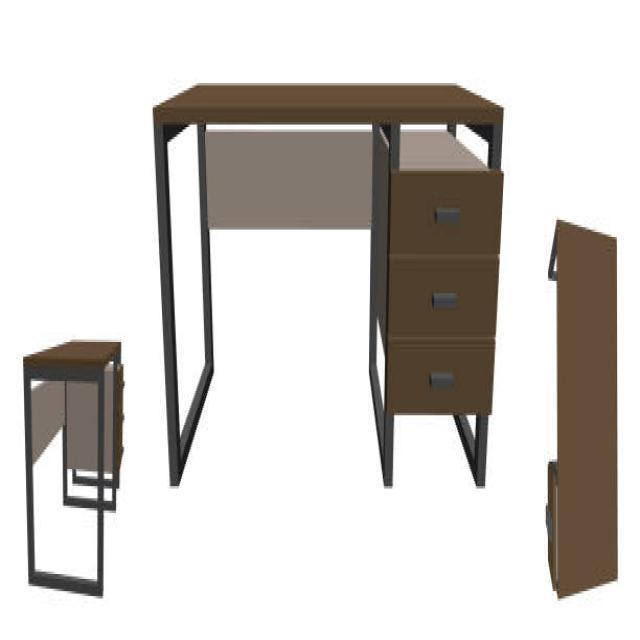table: (152, 80, 504, 488), (21, 337, 124, 596)
